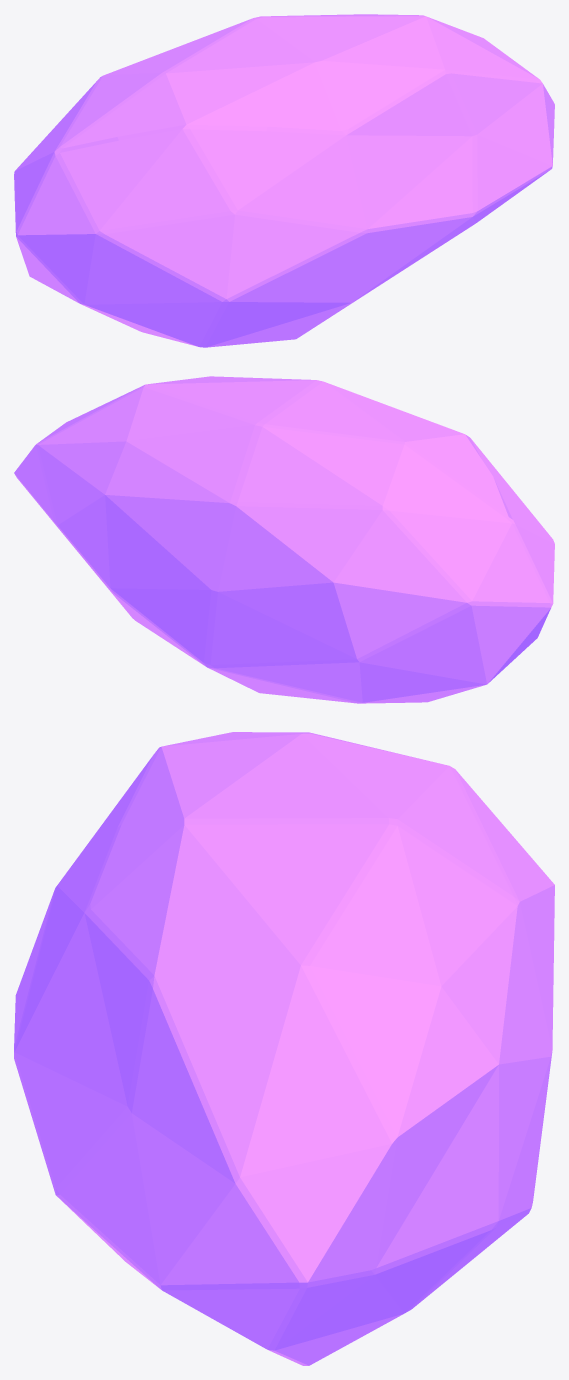
File: crystal.fbx
The picture shows the model from 3 angles, top to bottom: view 1: azimuth 30°, elevation 25°; view 2: azimuth 150°, elevation 25°; view 3: azimuth 270°, elevation 25°; orthographic projection. The views are drawn at different scales.
Visible parts, largest first — view 1: Icosphere; view 2: Icosphere; view 3: Icosphere.
Part boxes in pixels (x1,y1,x2,y2): Icosphere: (14,14,554,347); Icosphere: (14,376,554,703); Icosphere: (14,732,554,1365).
Bounding box in the file's own units: 20 × 10 × 10.
